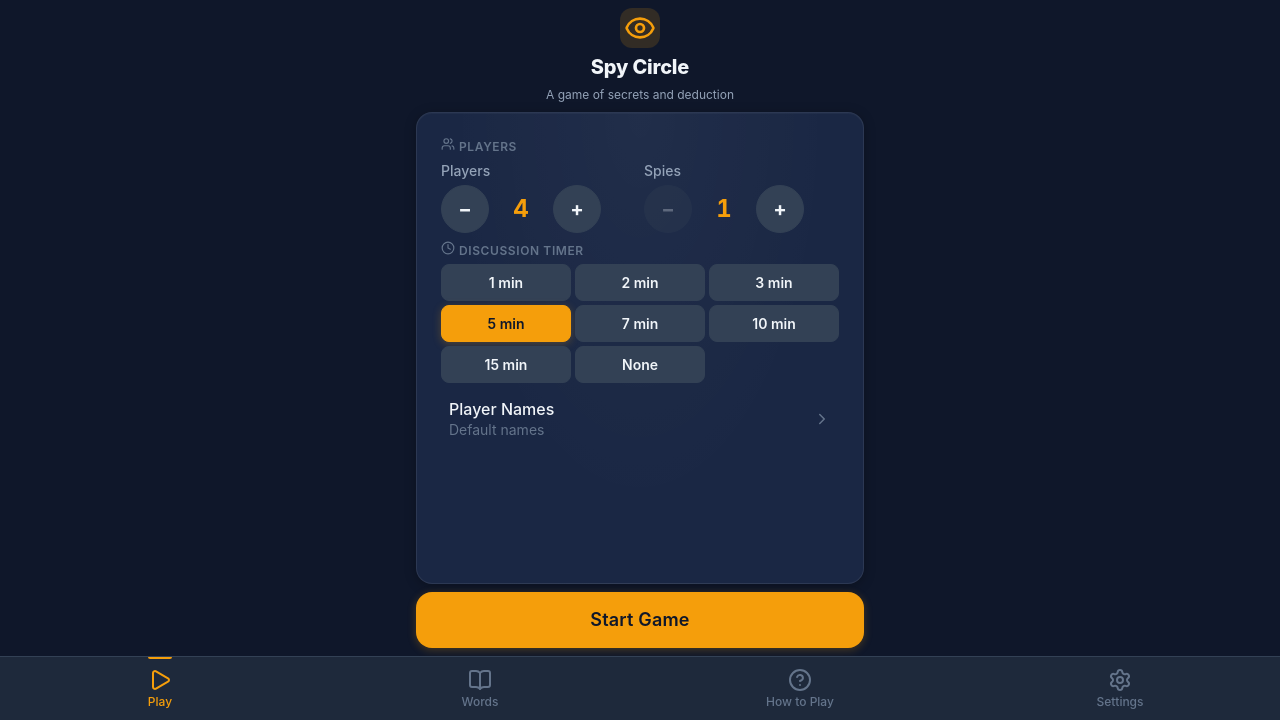
App › keeps an active game open when Back confirmation is cancelled
The width and height of the screenshot is (1280, 720).
What coordinates should you click on to do the following:
click the button "Start Game"
I would click on:
 (640, 620)
Its box is [416,592,864,648].
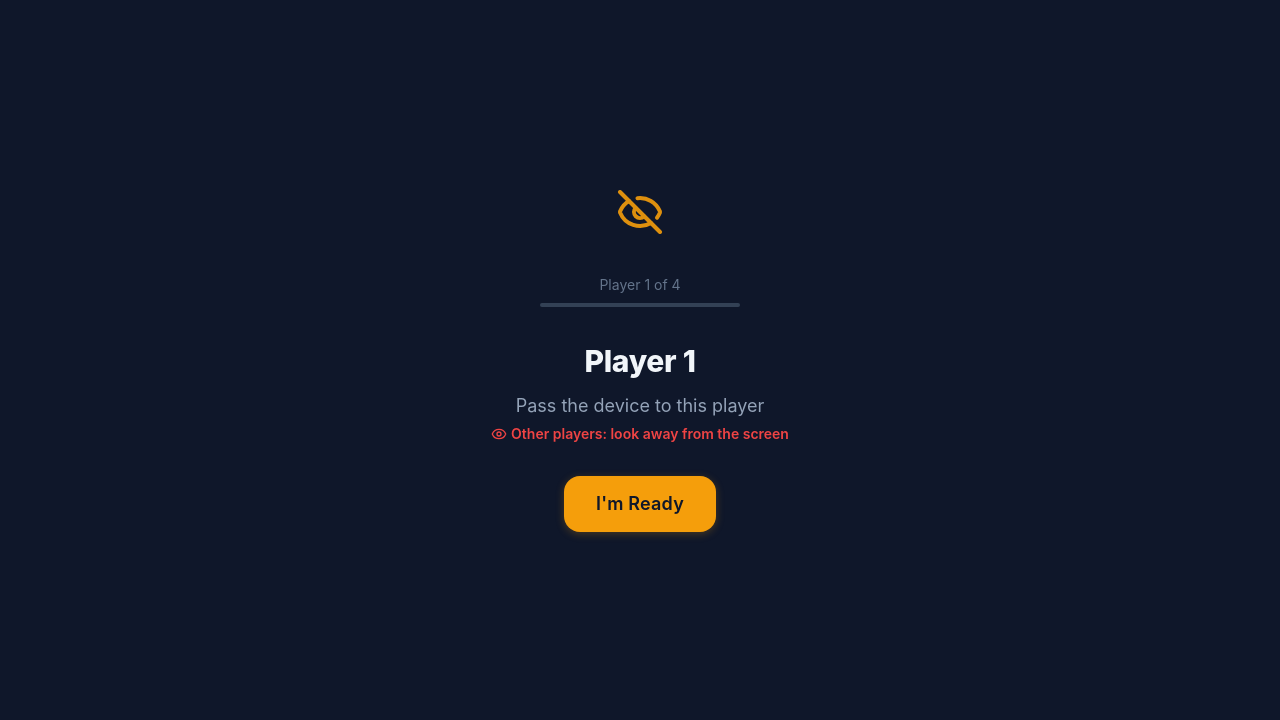
Expected: the text "Pass the device to this player" is shown, [516,392,764,419]
